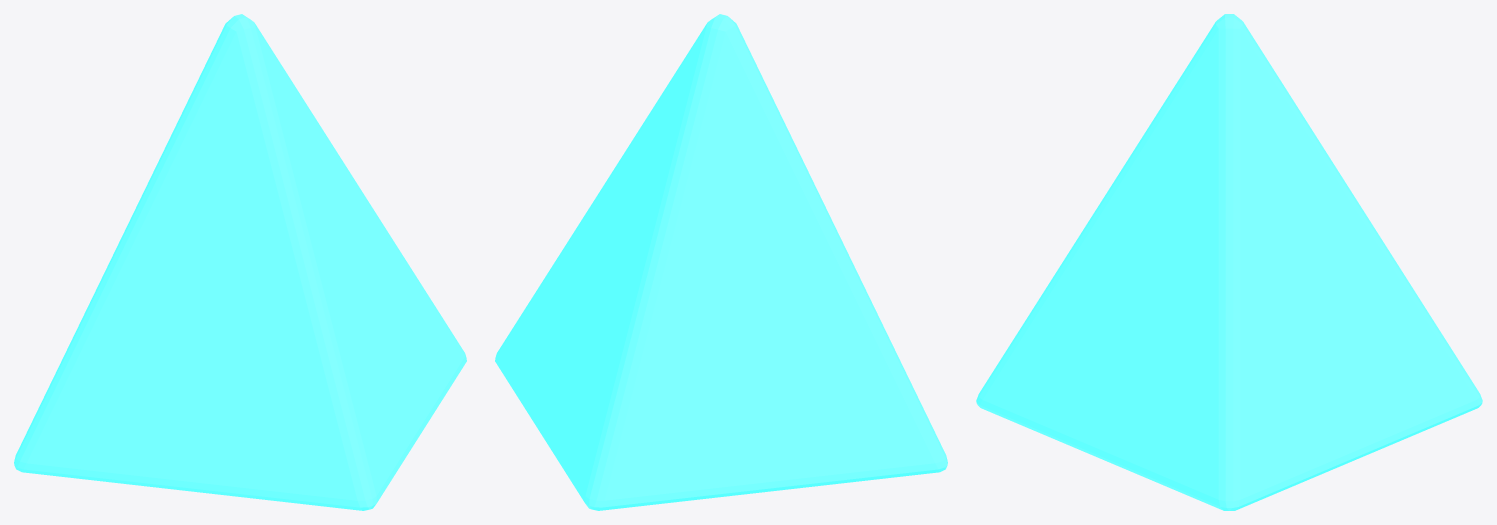
Rendered from SM_HC_BeatShard_16.fbx.
3 views of the same model, side by side, from view 1: azimuth 30°, elevation 25°; view 2: azimuth 150°, elevation 25°; view 3: azimuth 270°, elevation 25° (orthographic). The views are drawn at different scales.
Visible parts, largest first — view 1: SM_HC_BeatShard_16; view 2: SM_HC_BeatShard_16; view 3: SM_HC_BeatShard_16.
Boxes of the visible parts, box(x1,y1,x2,y2) form: SM_HC_BeatShard_16: box(14, 14, 466, 510); SM_HC_BeatShard_16: box(495, 14, 947, 510); SM_HC_BeatShard_16: box(976, 14, 1482, 510).
Size of the model in its own units: 143 by 143 by 122.
